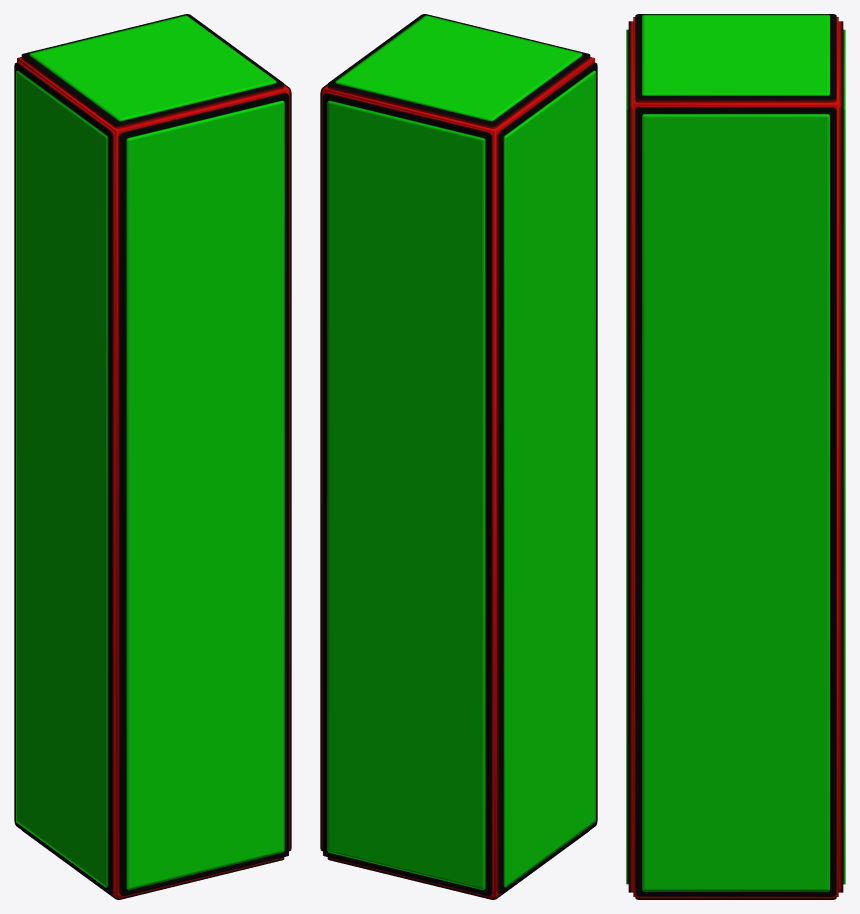
The picture shows the model from 3 angles, left to right: view 1: azimuth 30°, elevation 25°; view 2: azimuth 150°, elevation 25°; view 3: azimuth 270°, elevation 25°; orthographic projection. The views are drawn at different scales.
Visible parts, largest first — view 1: SM_Cube_03; view 2: SM_Cube_03; view 3: SM_Cube_03.
Part boxes in pixels (x1,y1,x2,y2): SM_Cube_03: (14, 14, 291, 899); SM_Cube_03: (320, 14, 597, 899); SM_Cube_03: (626, 14, 845, 899).
Size of what is drawn, in the model's own units: 49.09 by 49.09 by 199.
